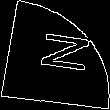N_W: (23, 31, 87, 79)
